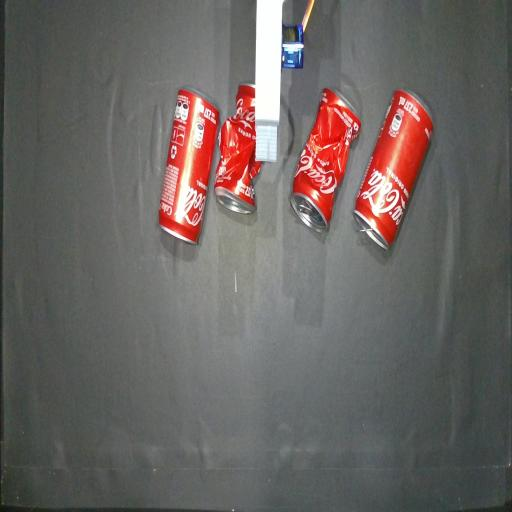lata: (354, 91, 433, 249), (159, 90, 218, 243)
lata_defectuoso: (291, 89, 361, 232), (214, 83, 261, 213)
